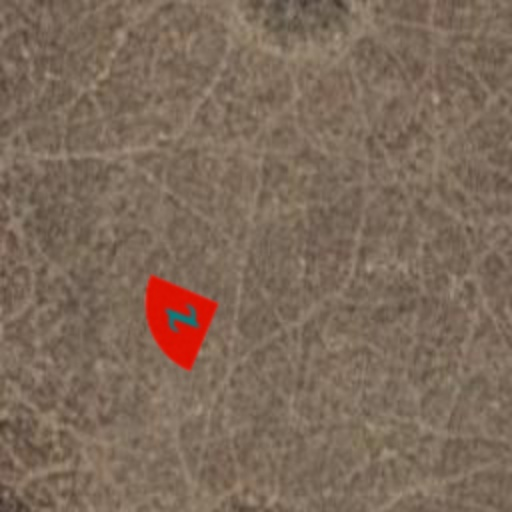quarter_circle: (112, 254, 244, 386)
